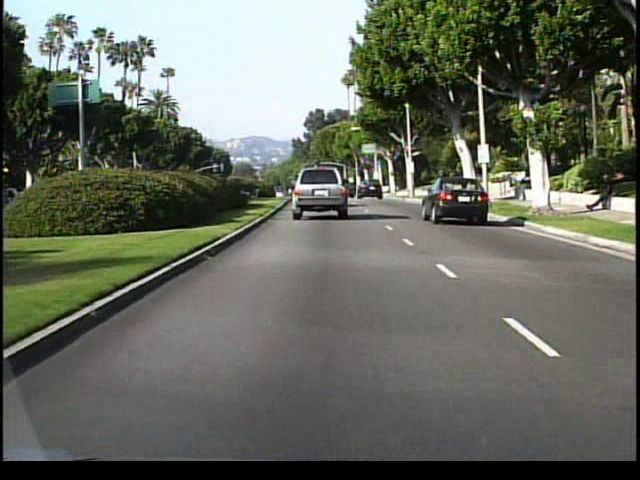person: (585, 170, 614, 216)
